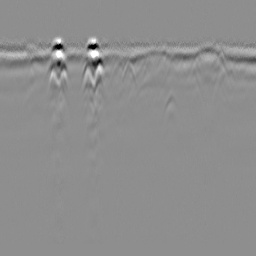cavity: (120, 60, 139, 90)
